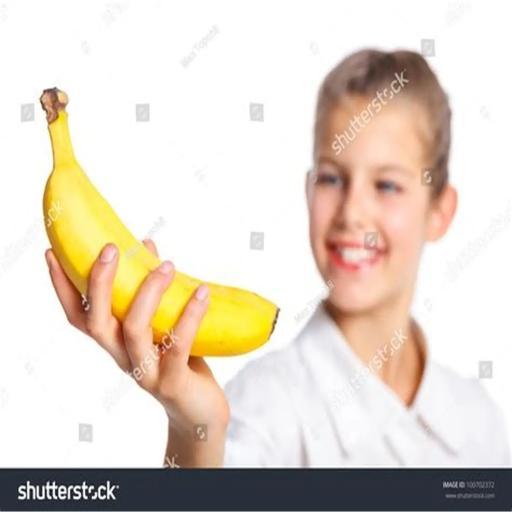banana: (40, 88, 161, 321)
